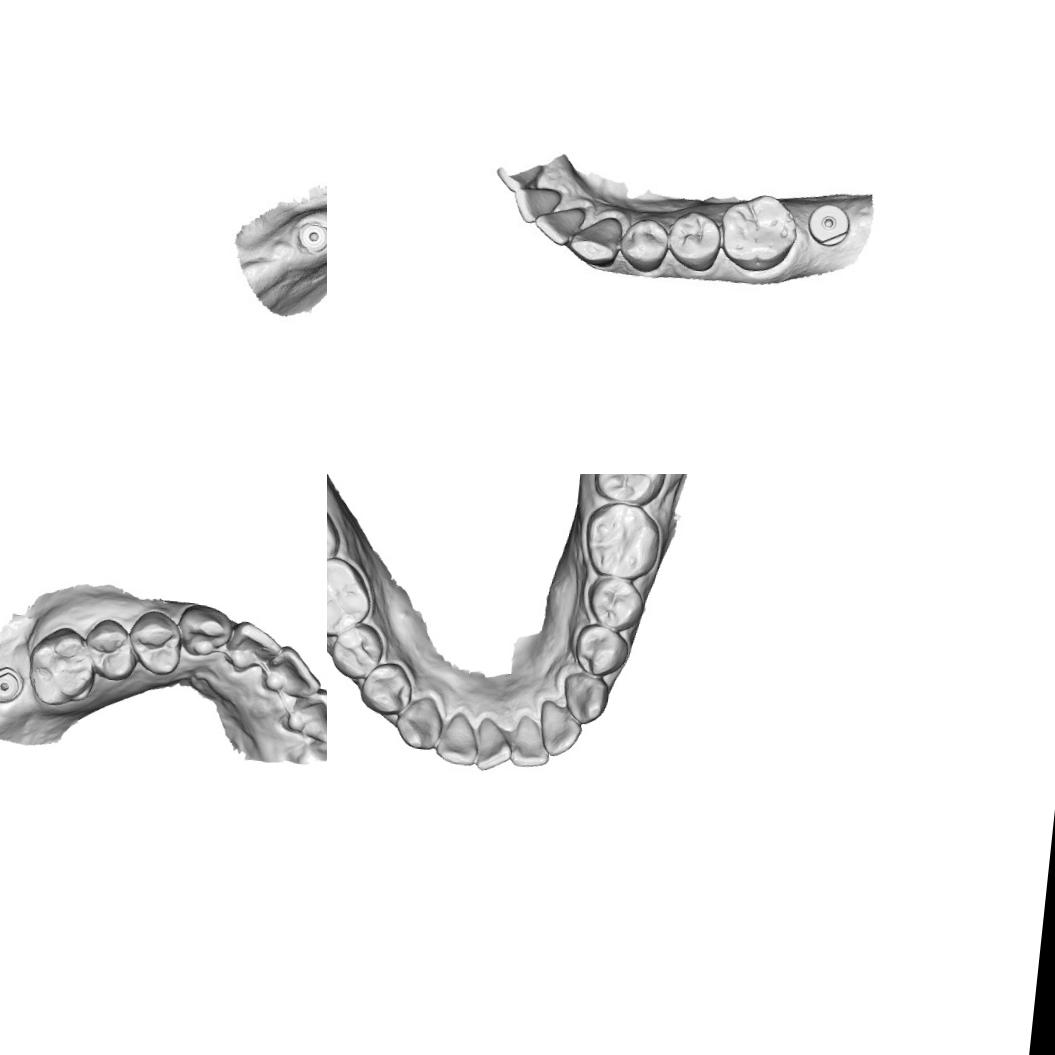canine: (174, 600, 236, 660), (566, 216, 628, 269), (392, 692, 445, 754), (558, 669, 611, 727)
implant: (805, 198, 853, 248), (294, 212, 327, 254), (0, 662, 25, 706)
incisor: (258, 641, 326, 701), (226, 618, 287, 676), (277, 683, 327, 746), (534, 698, 584, 759), (434, 708, 482, 768), (508, 712, 554, 770), (472, 715, 516, 774), (536, 206, 582, 252), (512, 184, 558, 225)
molar: (718, 189, 800, 277), (580, 498, 664, 582), (22, 622, 100, 710), (327, 552, 375, 641), (590, 474, 669, 507), (327, 493, 345, 576)
premolar: (122, 606, 186, 678), (80, 615, 140, 682), (584, 574, 647, 634), (327, 619, 386, 682), (670, 207, 724, 272), (357, 659, 416, 718), (572, 620, 630, 678), (619, 216, 670, 278)
